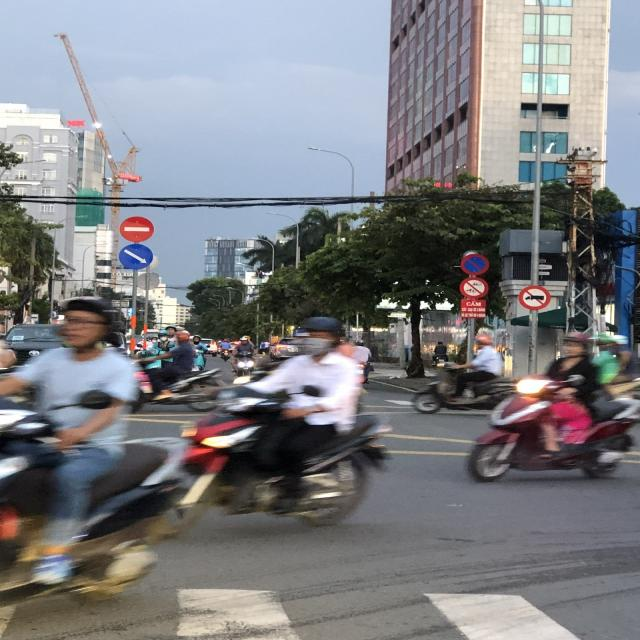Bien bao cam di nguoc chieu: (118, 214, 156, 242)
Bien bao cam do xe: (459, 252, 486, 276)
Bien bao cam xe so-mi ro-mooc: (516, 284, 554, 313)
Bien bao huong phai di vong chuong ngai vat: (114, 242, 158, 273)
